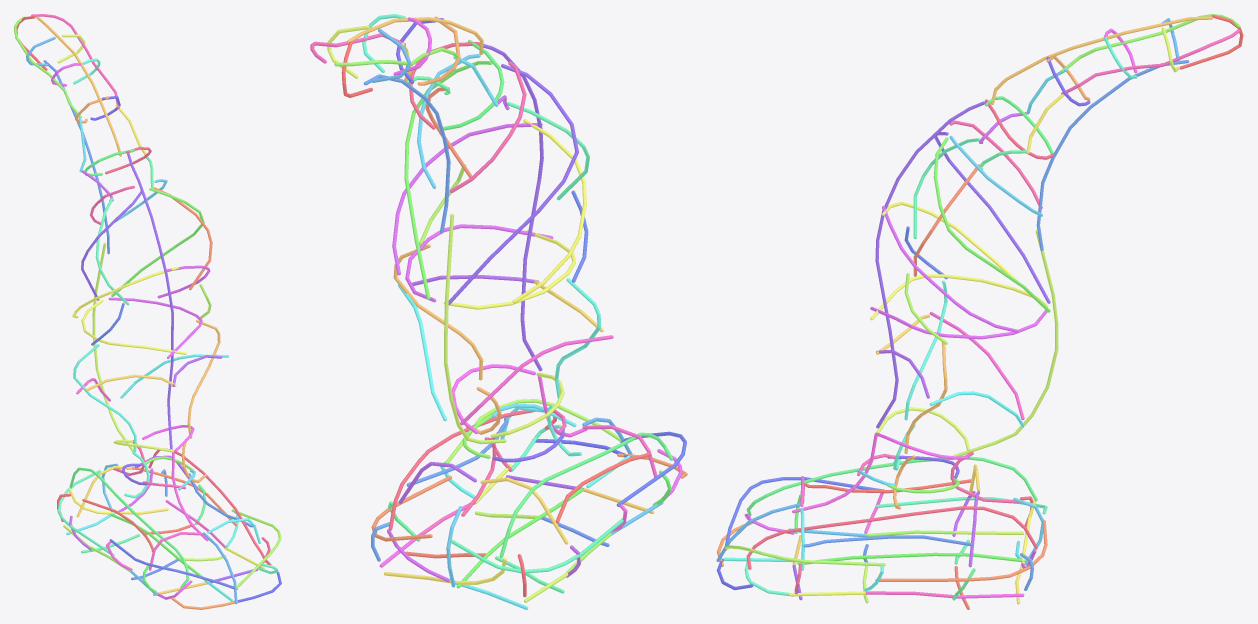
The model's file is cassie_vacuum.gltf.
The picture shows the model from 3 angles, left to right: view 1: azimuth 30°, elevation 25°; view 2: azimuth 150°, elevation 25°; view 3: azimuth 270°, elevation 25°; orthographic projection. The views are drawn at different scales.
Size of the model in its own units: 0.2614 by 0.7389 by 0.6313.
